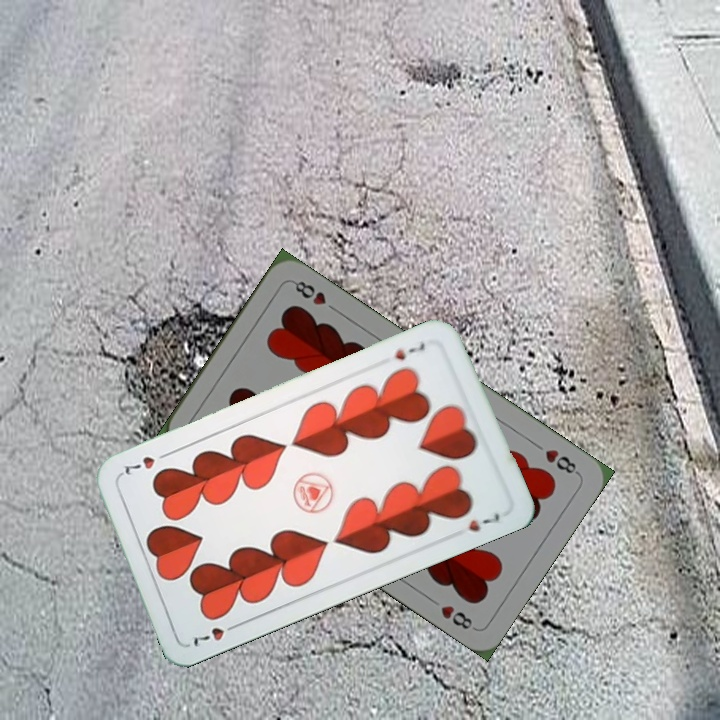H7: (187, 619, 243, 650), (391, 339, 428, 363)
H8: (541, 445, 582, 477)
